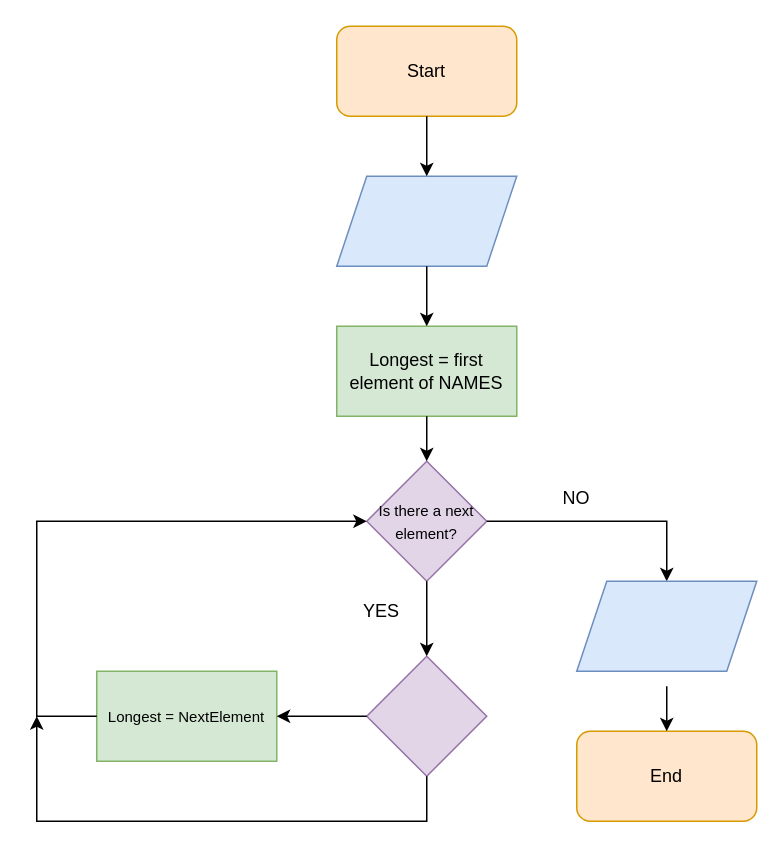
The diagram is 783 pixels wide and 860 high, and some of its shapes have lost their labels. Each missing label, with the box of its shape:
Input: Enter NAMES: (335, 175, 517, 266)
Is NextElement longer than the Longest?: (365, 655, 487, 776)
Output: Longest: (575, 580, 757, 671)
